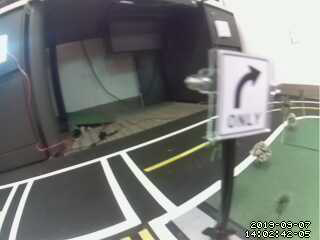Right_only_sign: (214, 50, 277, 130)
